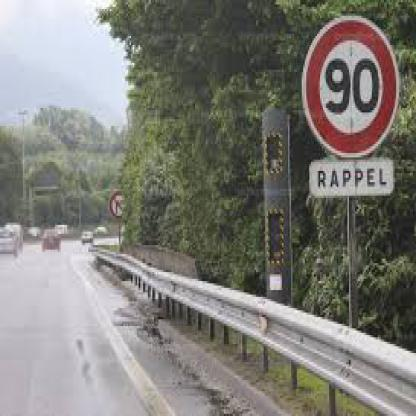Speed Limit -90-: (265, 10, 416, 160)
